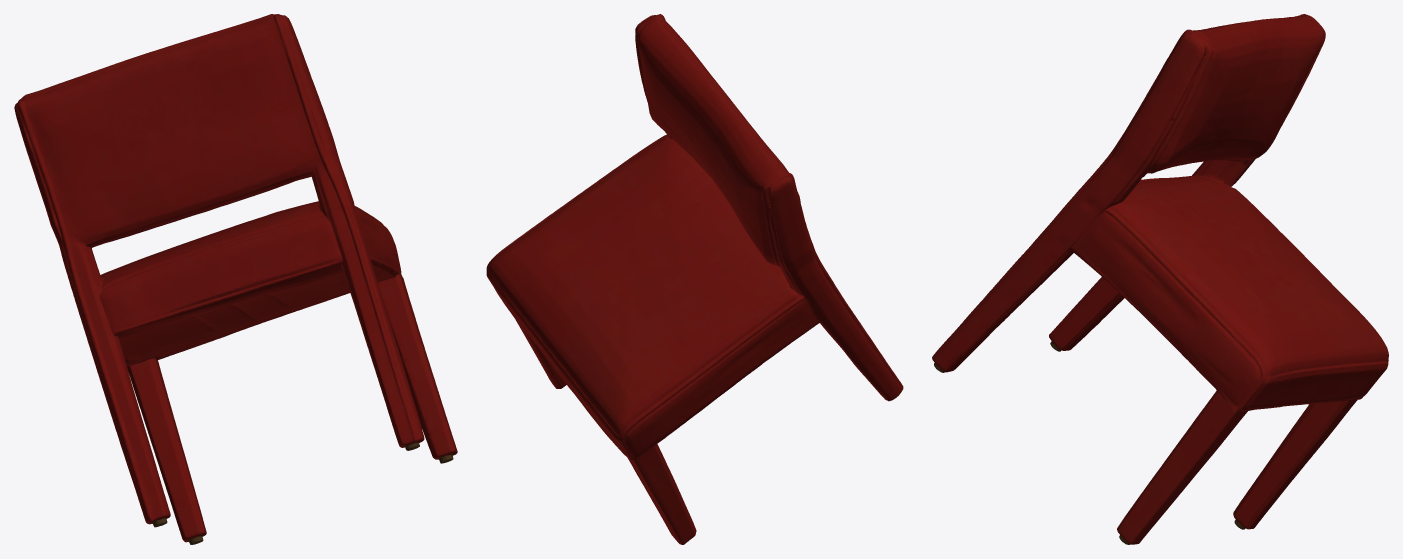
File: pixal3d.glb
3 renders of one model, left to right at view 1: azimuth 30°, elevation 25°; view 2: azimuth 150°, elevation 25°; view 3: azimuth 270°, elevation 25°, orthographic. The views are drawn at different scales.
Visible parts, largest first — view 1: world; view 2: world; view 3: world.
Part boxes in pixels (x1,y1,x2,y2): world: (14,14,457,544); world: (486,14,903,544); world: (932,14,1388,544).
Size of the model in its own units: 0.6296 by 0.9147 by 0.7209.
Materials: 1 (1 with a texture image).
